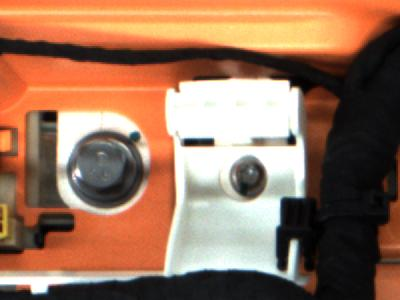nut_b: (63, 134, 158, 206)
